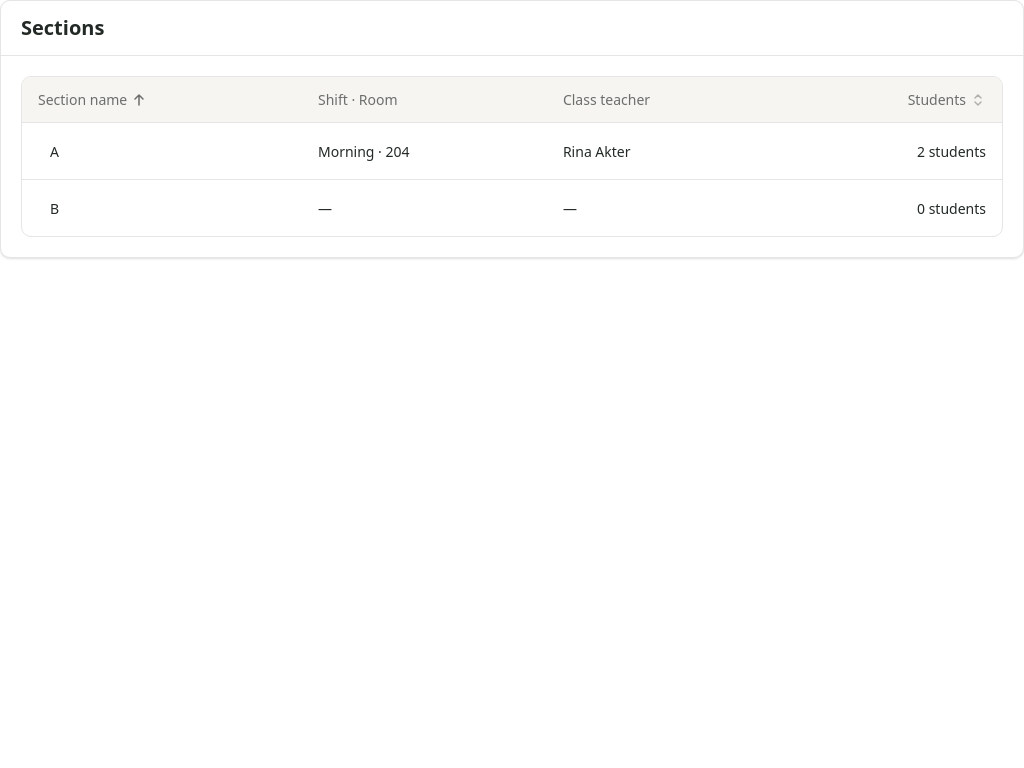
Test: class sections (FND-02, FND-04, FND-19) › gives teachers the guardians of the section's students, without the student changes
Click the button named "Open section A": {"x": 54, "y": 151} [38, 135, 71, 167]
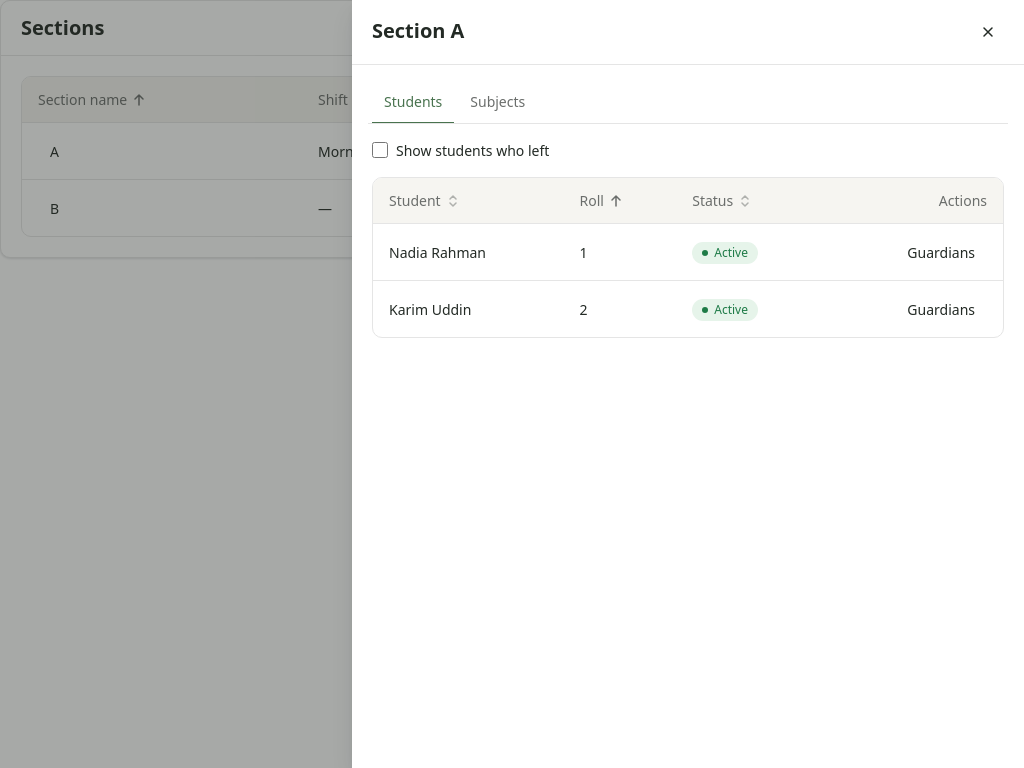
Check: the button with aria-label "Guardians of Karim Uddin" is shown, box [895, 293, 987, 325]
